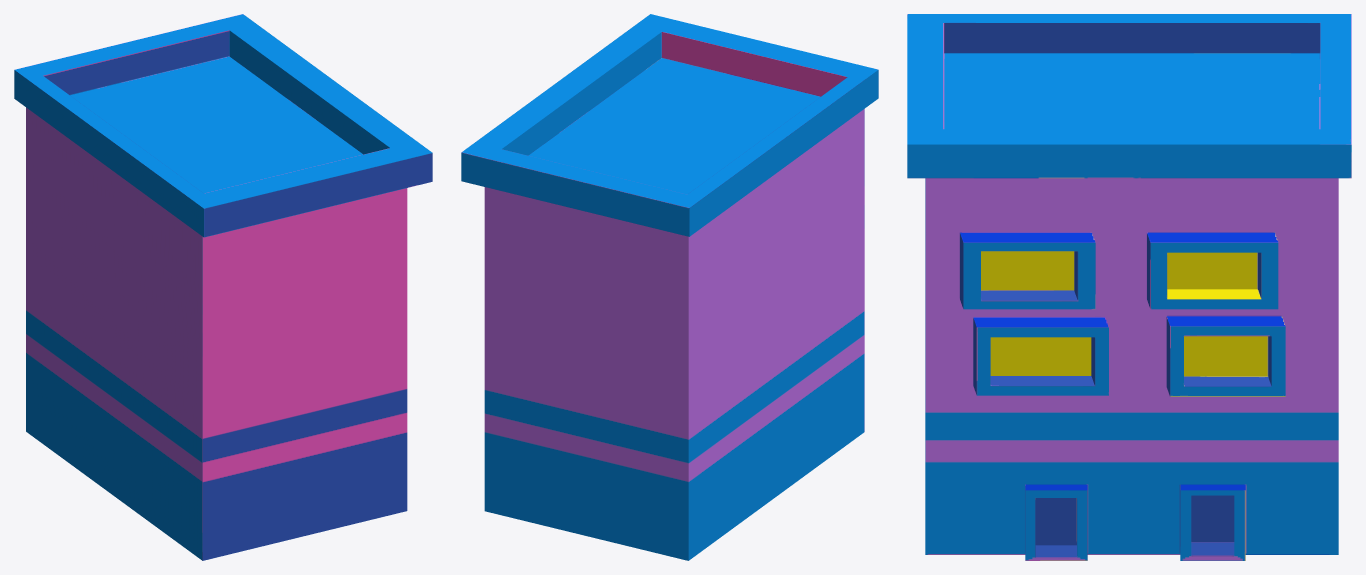
File: Building 3.fbx
The picture shows the model from 3 angles, left to right: view 1: azimuth 30°, elevation 25°; view 2: azimuth 150°, elevation 25°; view 3: azimuth 270°, elevation 25°; orthographic projection. The views are drawn at different scales.
Visible parts, largest first — view 1: Cube.033; view 2: Cube.033; view 3: Cube.033.
Boxes of the visible parts, x1,y1,x2,y2 form: Cube.033: (14, 14, 432, 560); Cube.033: (461, 14, 878, 560); Cube.033: (907, 14, 1351, 560).
Bounding box in the file's own units: 175 × 262 × 251.
Materials: 1 (1 with a texture image).
